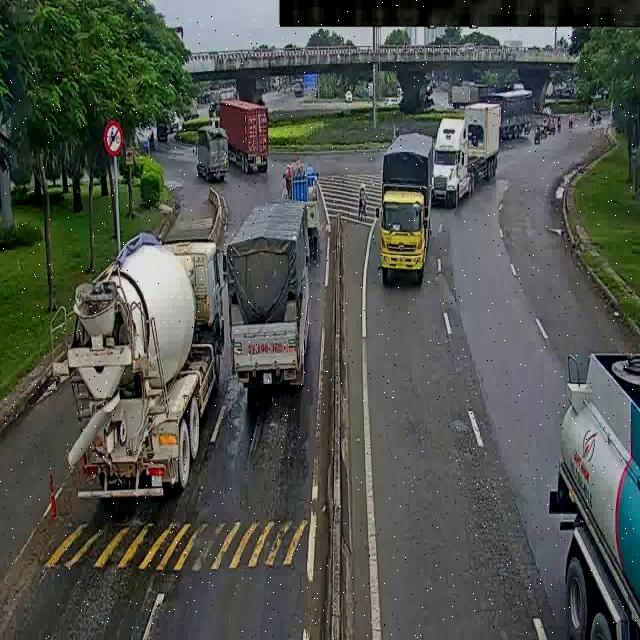motorbike: (587, 106, 608, 130), (530, 119, 548, 145), (543, 113, 558, 136), (565, 111, 577, 132), (555, 112, 563, 134)
truck: (46, 211, 240, 510), (499, 324, 640, 627), (225, 193, 316, 415), (371, 117, 436, 287), (425, 100, 513, 209), (184, 122, 248, 220), (209, 101, 271, 179), (274, 152, 334, 208), (482, 91, 540, 133)
